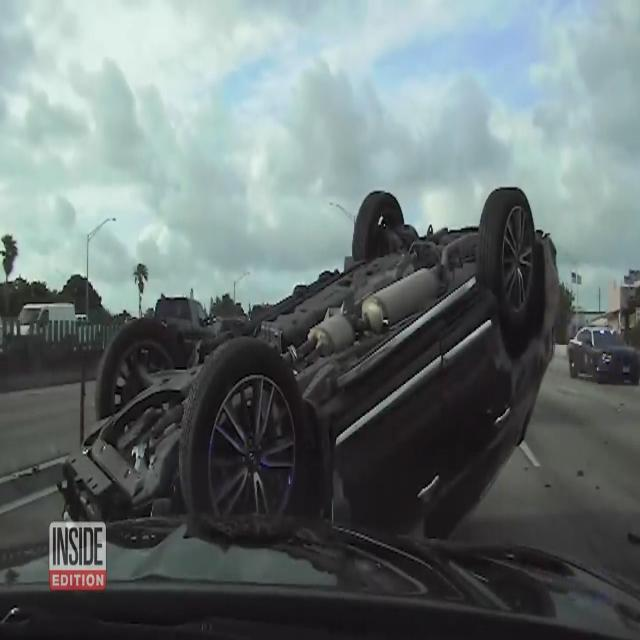accident: (69, 174, 563, 546)
